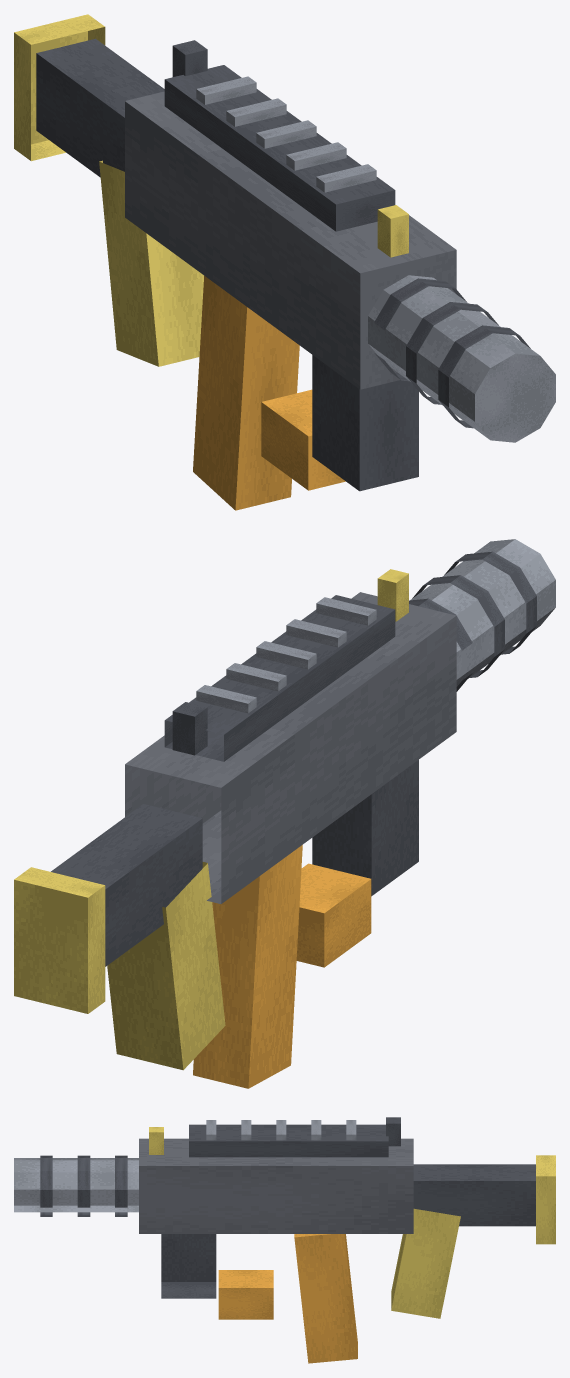
File: weapon_smg.glb
The picture shows the model from 3 angles, top to bottom: view 1: azimuth 30°, elevation 25°; view 2: azimuth 150°, elevation 25°; view 3: azimuth 270°, elevation 25°; orthographic projection. The views are drawn at different scales.
Visible parts, largest first — view 1: weapon_smg; view 2: weapon_smg; view 3: weapon_smg.
Boxes of the visible parts, box(x1,y1,x2,y2) form: weapon_smg: box(14, 14, 555, 510); weapon_smg: box(14, 539, 555, 1088); weapon_smg: box(14, 1117, 555, 1363).
Size of the model in its own units: 0.26 by 1.04 by 2.17.
1 material, 1 textured.
